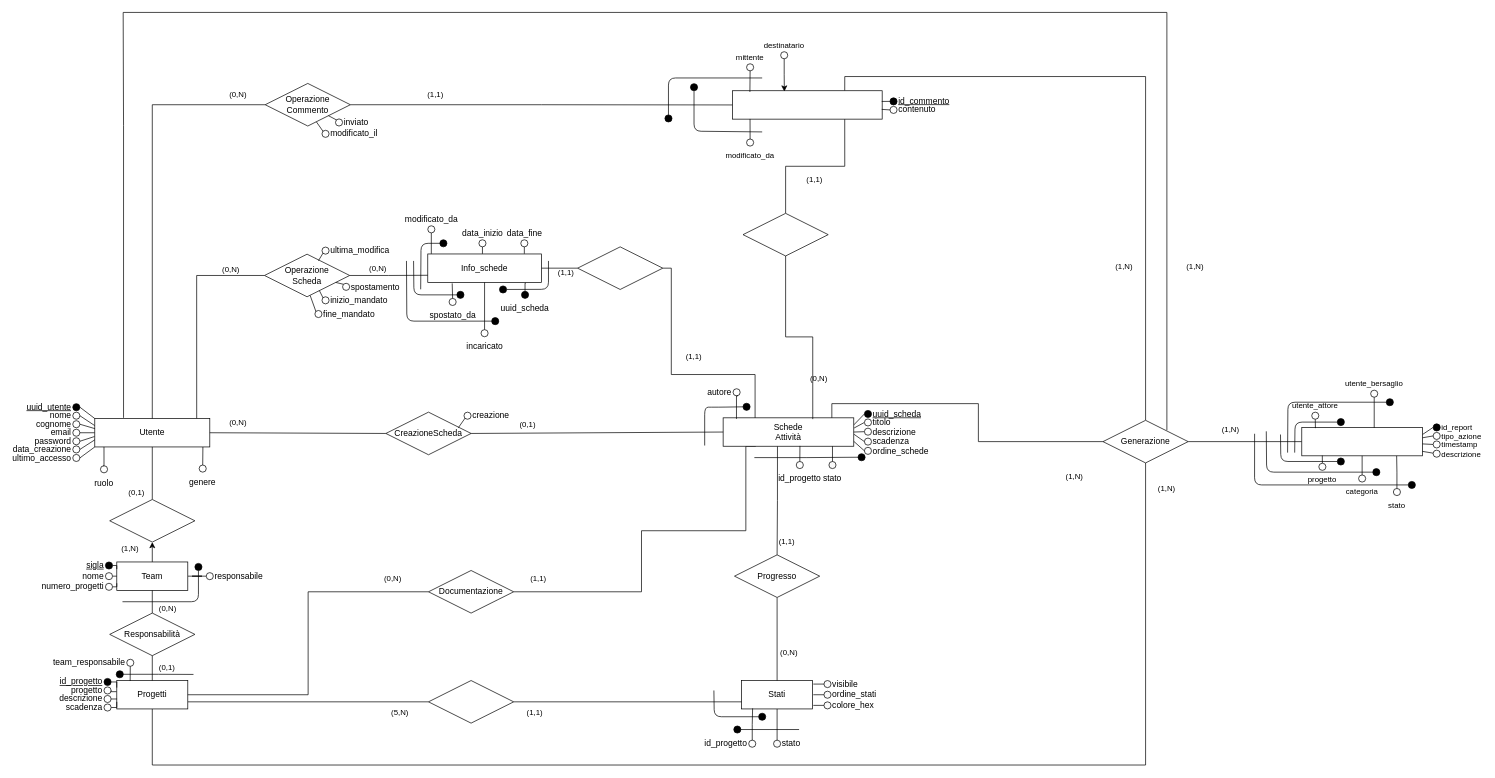
Image size: 1495x778. Some labels were removed from this diagram. Here are the shapes that lost their labels. From the top down, the centre of each, then its label:
the point at 807,104: Commenti
the point at 785,234: Comunicazione
the point at 620,267: Informazione
the point at 1361,441: Report
the point at 152,520: Appartenenza
the point at 471,701: Categorizzazione
